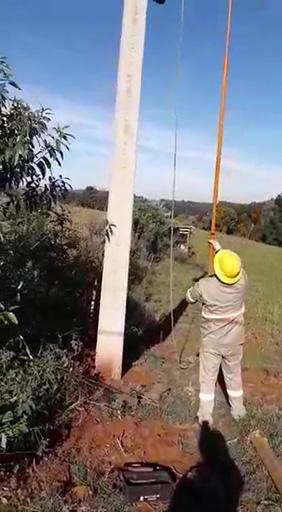Vara_Manobra: (207, 1, 234, 277)
